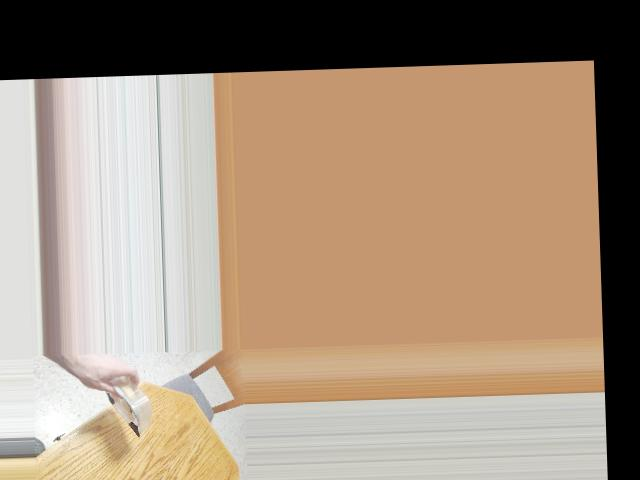cheese: (83, 367, 160, 432)
